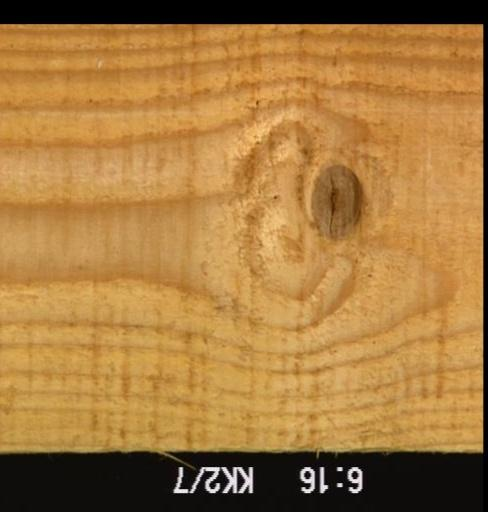sound_knot: (308, 161, 366, 242)
